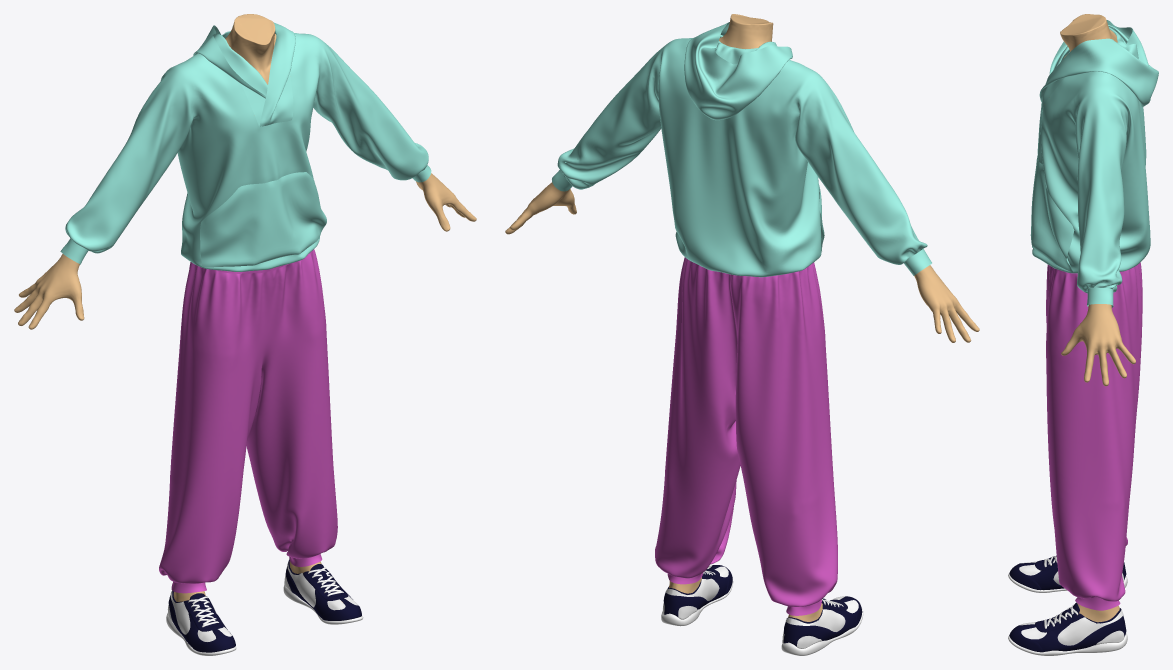
The model's file is men1.glb.
3 renders of one model, left to right at view 1: azimuth 30°, elevation 25°; view 2: azimuth 150°, elevation 25°; view 3: azimuth 270°, elevation 25°, orthographic. The views are drawn at different scales.
Parts seen in each view (by area): view 1: Track Suit; view 2: Track Suit; view 3: Track Suit.
Boxes of the visible parts, x1,y1,x2,y2 form: Track Suit: (14, 14, 476, 655); Track Suit: (505, 14, 979, 655); Track Suit: (1008, 14, 1158, 655).
Bounding box in the file's own units: 1.55 × 1.96 × 0.4484.
